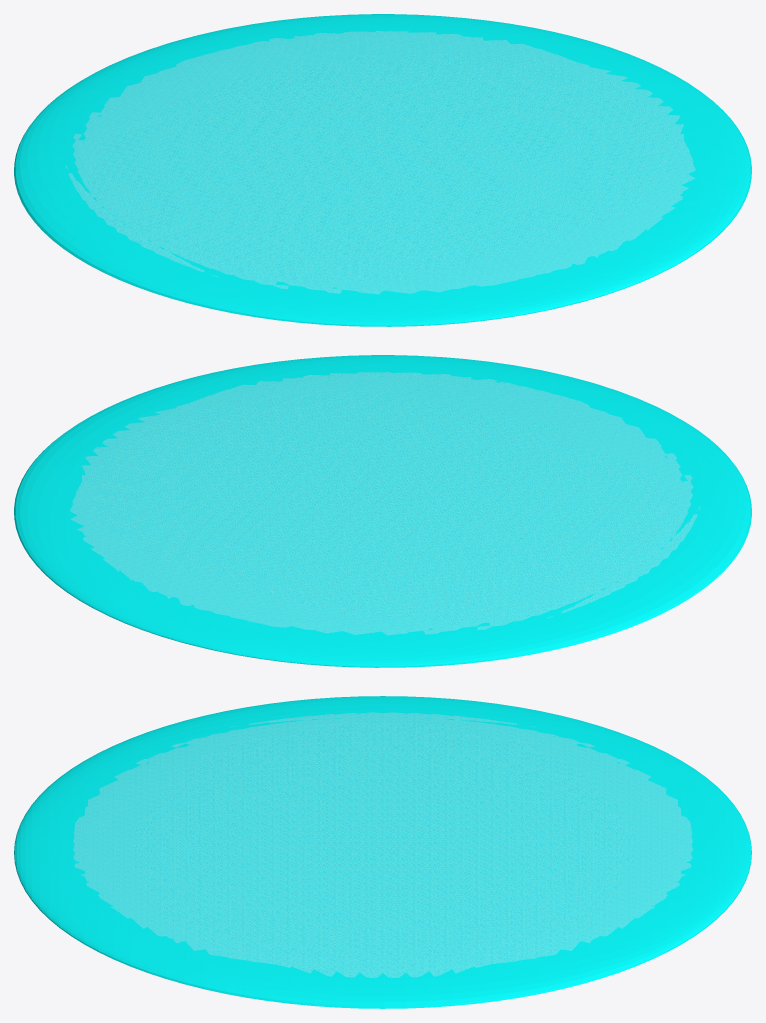
File: TrackPlanet.fbx
3 renders of one model, top to bottom at view 1: azimuth 30°, elevation 25°; view 2: azimuth 150°, elevation 25°; view 3: azimuth 270°, elevation 25°, orthographic.
Visible parts, largest first — view 1: Sphere, Land; view 2: Sphere, Land; view 3: Sphere, Land.
Part boxes in pixels (left/top/right/bottom): Sphere: left=65, top=31, right=695, bottom=294; Land: left=14, top=14, right=751, bottom=326; Sphere: left=70, top=372, right=700, bottom=635; Land: left=14, top=355, right=751, bottom=667; Sphere: left=73, top=712, right=692, bottom=977; Land: left=14, top=696, right=751, bottom=1008.
Bounding box in the file's own units: 14527 × 377 × 14527.
Materials: 2 (2 with a texture image).
